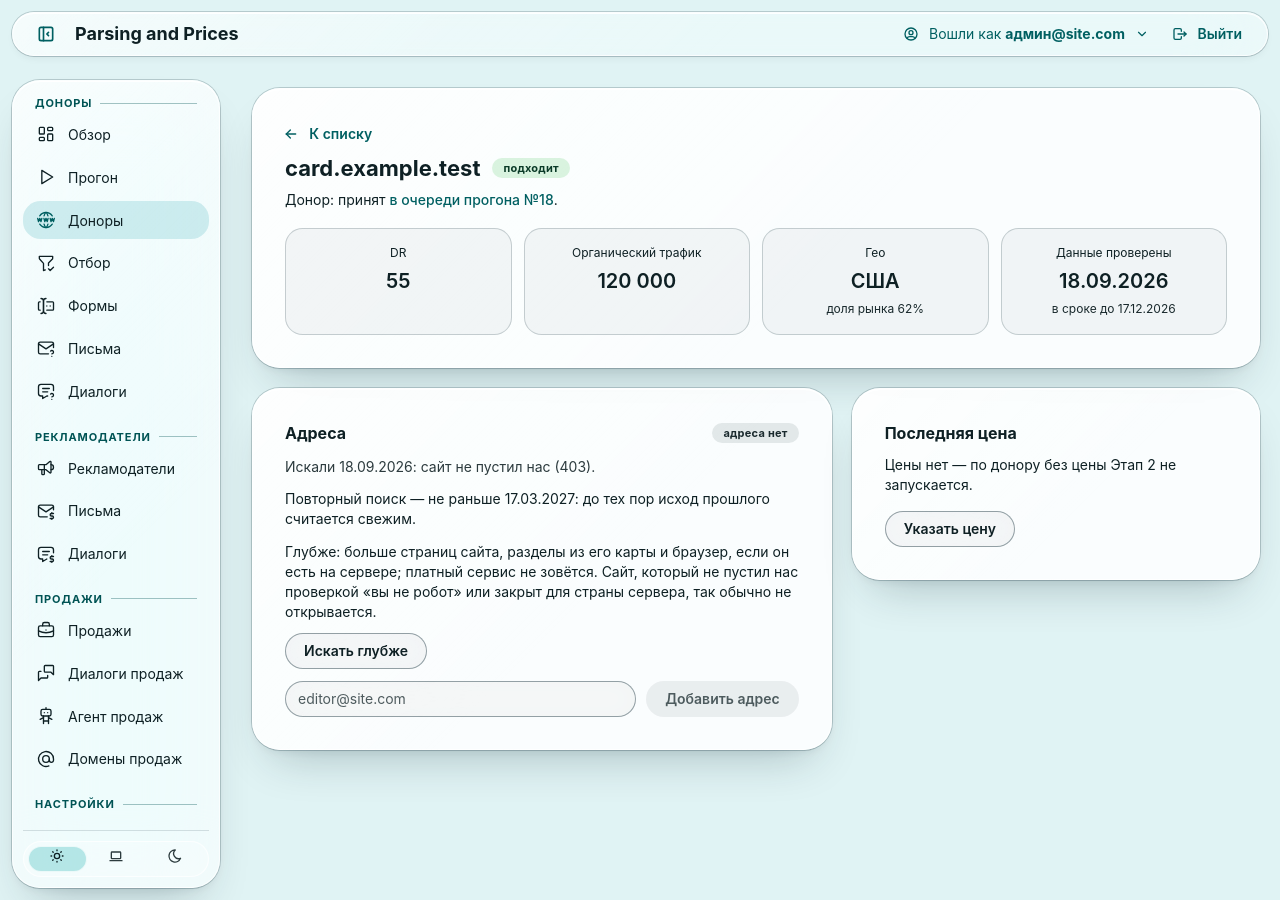
Scenario: карточка донора: «адреса нет» и поиск глубже › нажатие ставит задачу, и её итог виден словами сервера
Expected: the heading "card.example.test" is shown, [285,153,480,184]
Click the button "Искать глубже". click: (356,651)
box: [285,633,427,669]
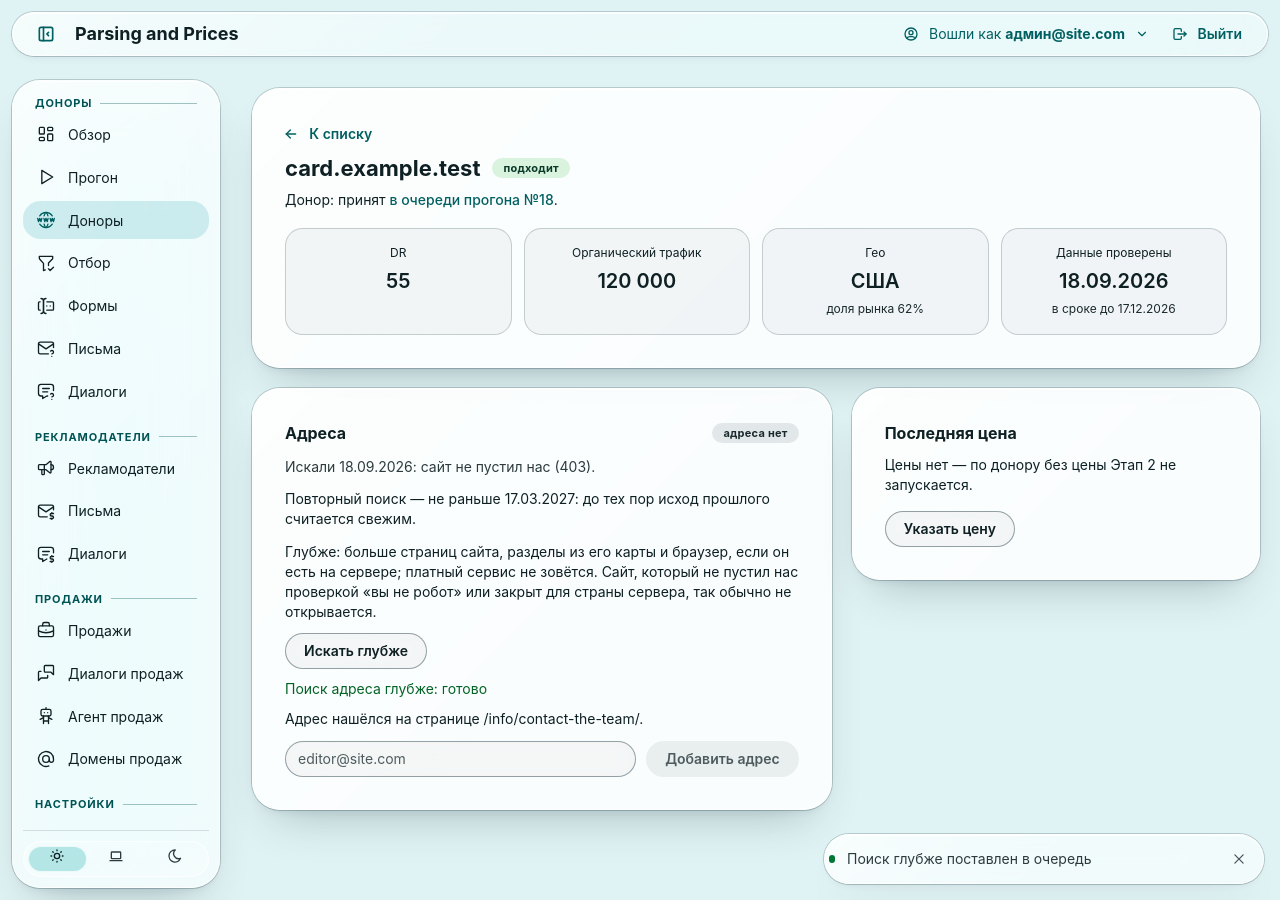
Result: the text "Поиск адреса глубже: идёт" is shown at [285,679,487,699]
Result: the text "Адрес нашёлся на странице /info/contact-the-team/." is shown at [285,709,643,729]
